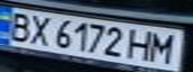1: (69, 20, 90, 52)
2: (103, 24, 127, 58)
6: (51, 17, 75, 50)
7: (84, 21, 106, 55)
B: (3, 9, 36, 43)
H: (124, 27, 157, 62)
M: (148, 30, 181, 65)
X: (24, 12, 54, 47)
